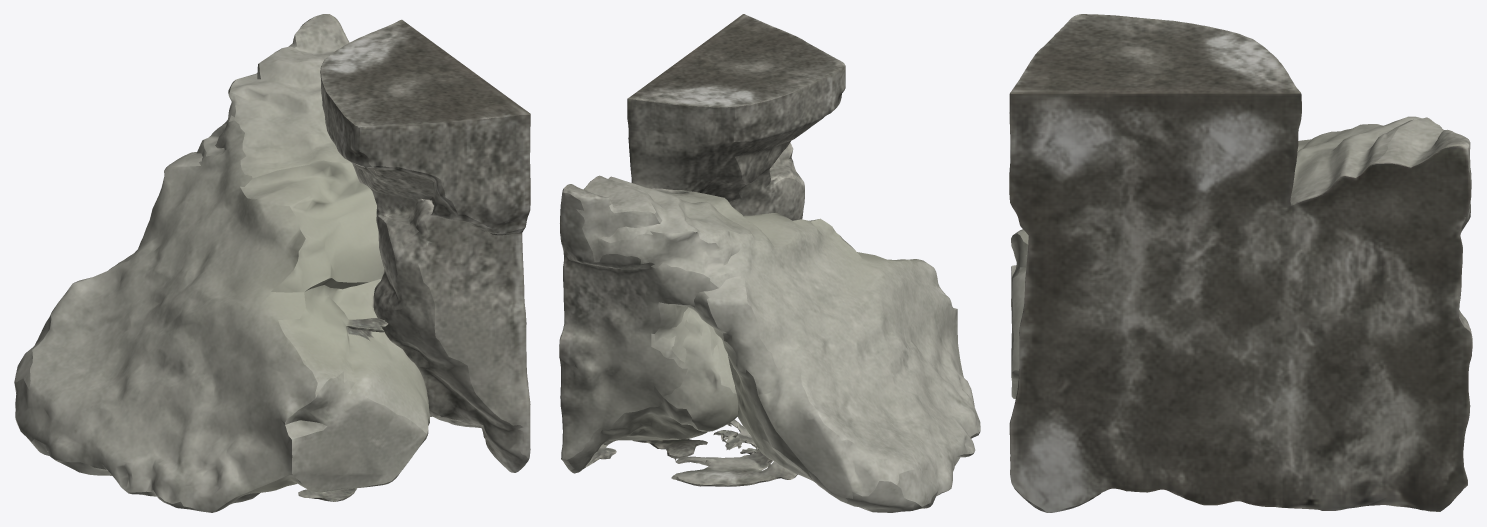
The picture shows the model from 3 angles, left to right: view 1: azimuth 30°, elevation 25°; view 2: azimuth 150°, elevation 25°; view 3: azimuth 270°, elevation 25°; orthographic projection. The views are drawn at different scales.
Parts seen in each view (by area): view 1: world; view 2: world; view 3: world.
Boxes of the visible parts, x1,y1,x2,y2 form: world: (14,14,530,512); world: (559,14,980,512); world: (1009,14,1472,512).
Bounding box in the file's own units: 0.45 × 0.4499 × 0.4498.
Materials: 1 (1 with a texture image).
